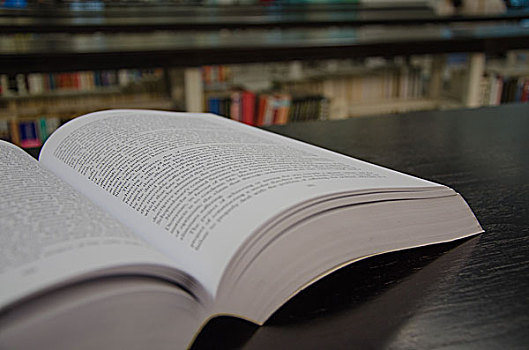book: (1, 105, 490, 349)
